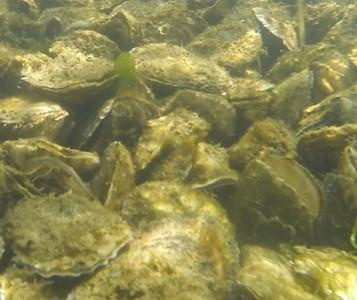3: (0, 193, 134, 278), (226, 151, 325, 246), (25, 30, 121, 100), (131, 42, 230, 89), (6, 136, 100, 176), (186, 160, 239, 193), (296, 109, 339, 136), (5, 168, 45, 197), (334, 146, 357, 180), (228, 90, 270, 107)
Oyster-Closed: (65, 180, 239, 300), (141, 109, 211, 183), (186, 19, 261, 67), (0, 92, 68, 141), (92, 142, 136, 210), (299, 125, 357, 174), (253, 6, 299, 52)
Oyster-Open: (164, 89, 238, 147), (229, 118, 296, 167), (271, 69, 315, 127), (137, 116, 173, 169), (196, 141, 230, 166)
